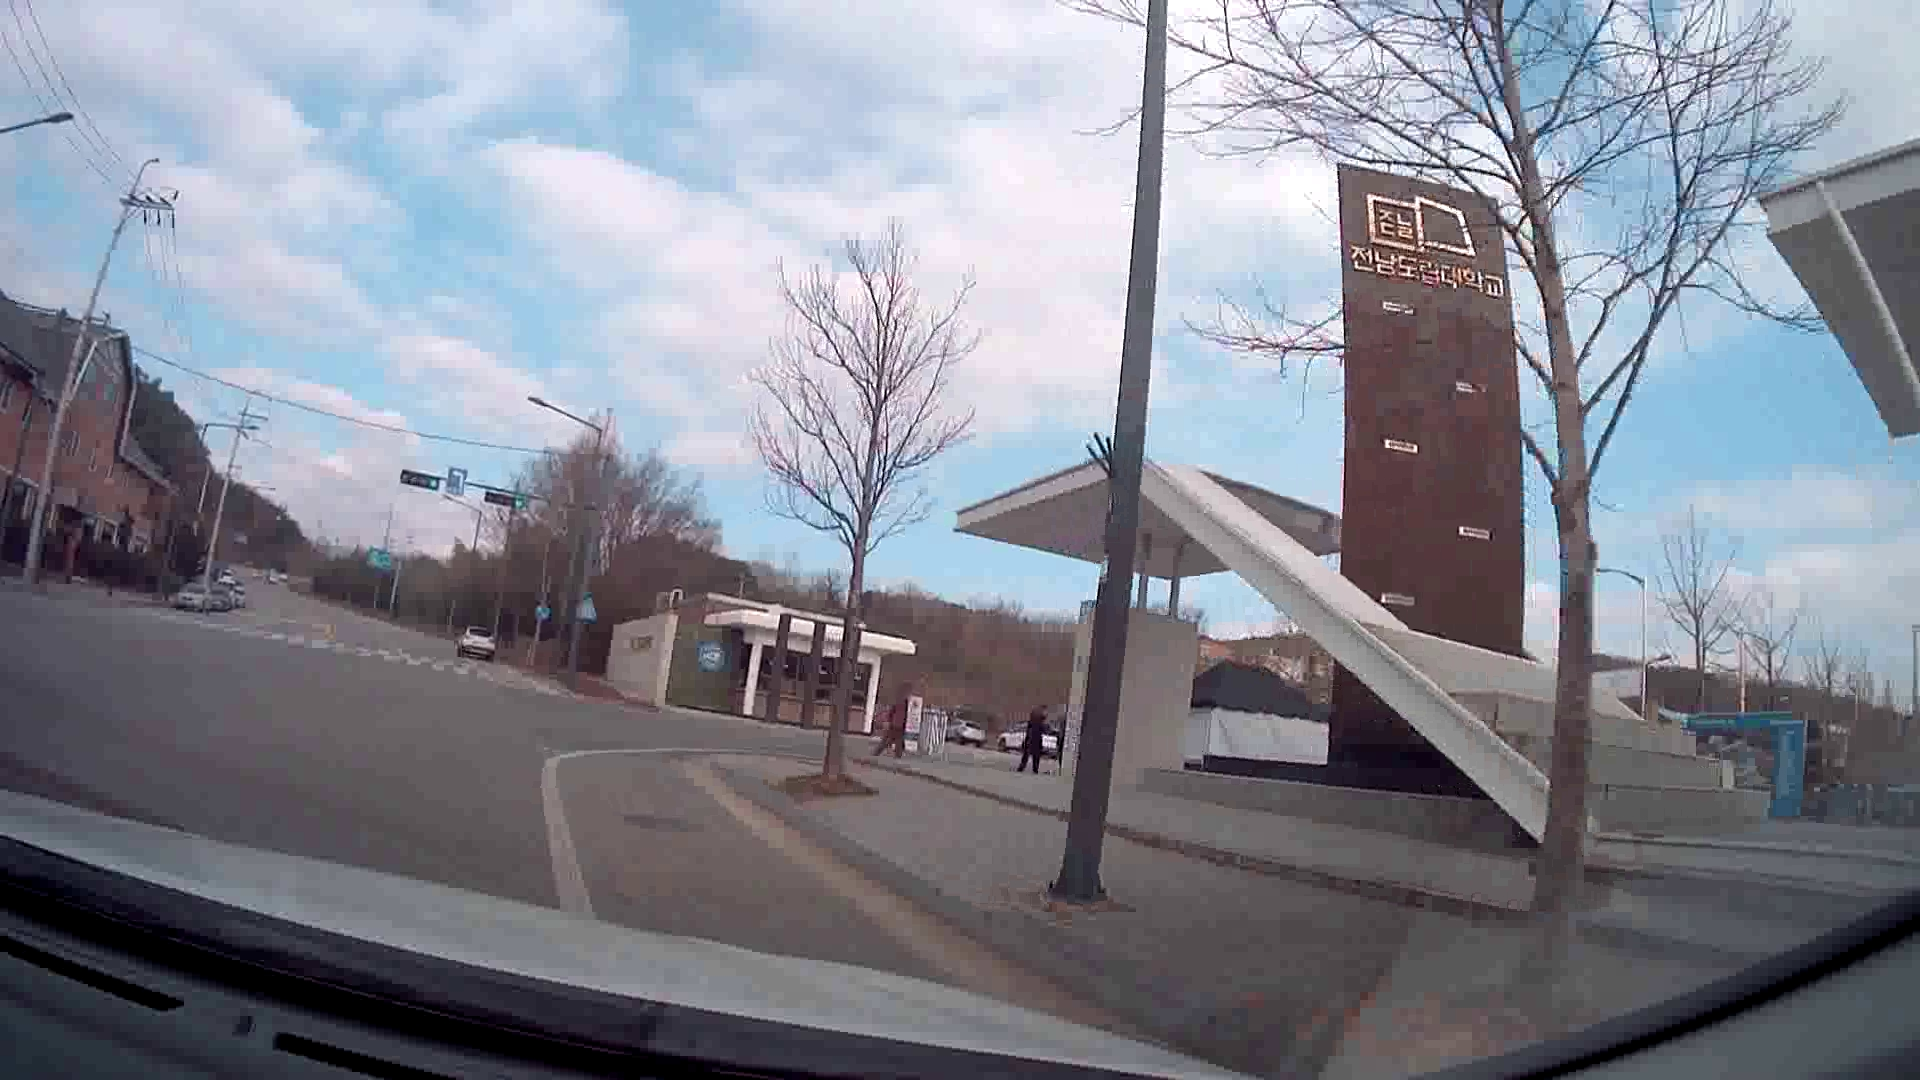trafficLight: (397, 468, 444, 492), (483, 492, 525, 512)
trafficSignTri: (448, 462, 469, 493)
